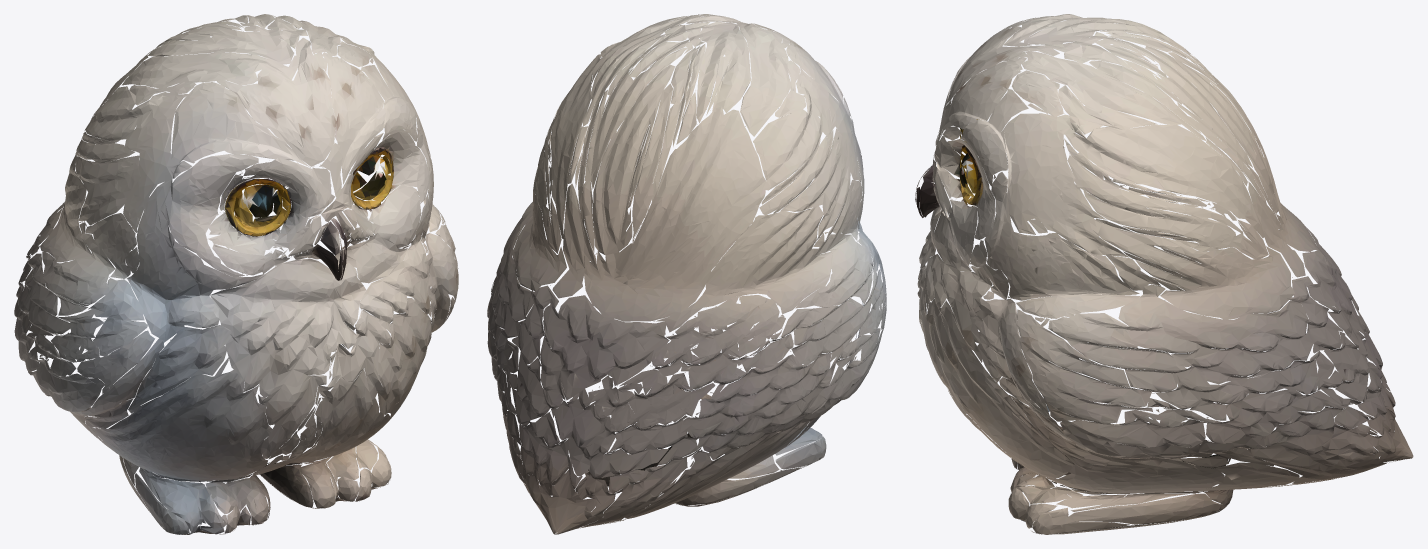
The model's file is pet_owl.glb.
3 views of the same model, side by side, from view 1: azimuth 30°, elevation 25°; view 2: azimuth 150°, elevation 25°; view 3: azimuth 270°, elevation 25° (orthographic). The views are drawn at different scales.
Visible parts, largest first — view 1: owl; view 2: owl; view 3: owl.
Boxes of the visible parts, <box> form: owl: <box>14,14,458,534</box>; owl: <box>487,14,886,534</box>; owl: <box>915,14,1413,534</box>.
Bounding box in the file's own units: 0.8706 × 1 × 1.
1 material, 1 textured.
